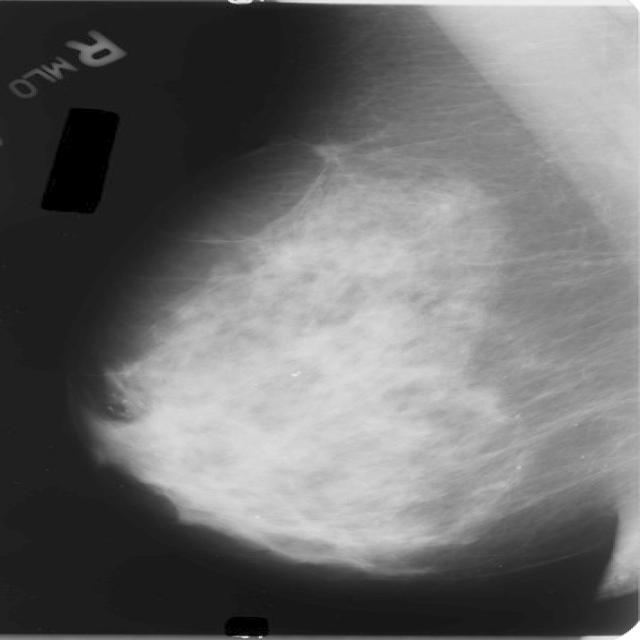tumour: (306, 139, 350, 167)
